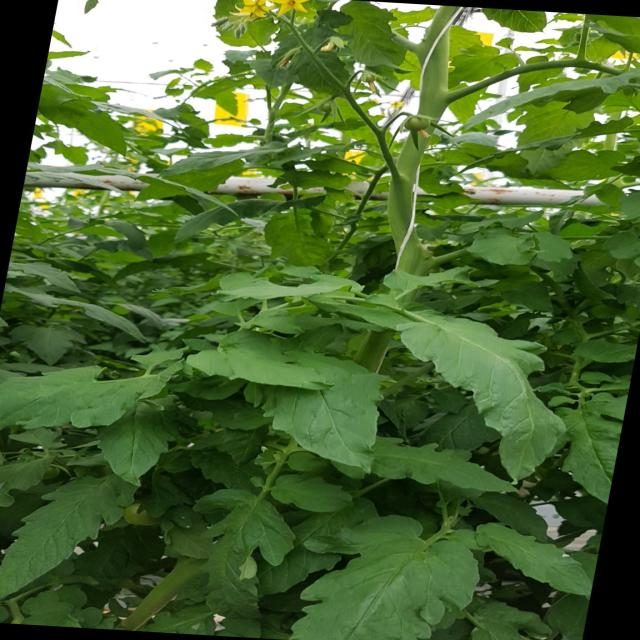Healthy Leaf: (379, 296, 580, 486), (300, 496, 480, 640), (0, 463, 189, 598), (0, 348, 189, 436), (188, 480, 306, 614), (169, 317, 352, 403), (472, 512, 604, 602), (17, 311, 100, 365)
